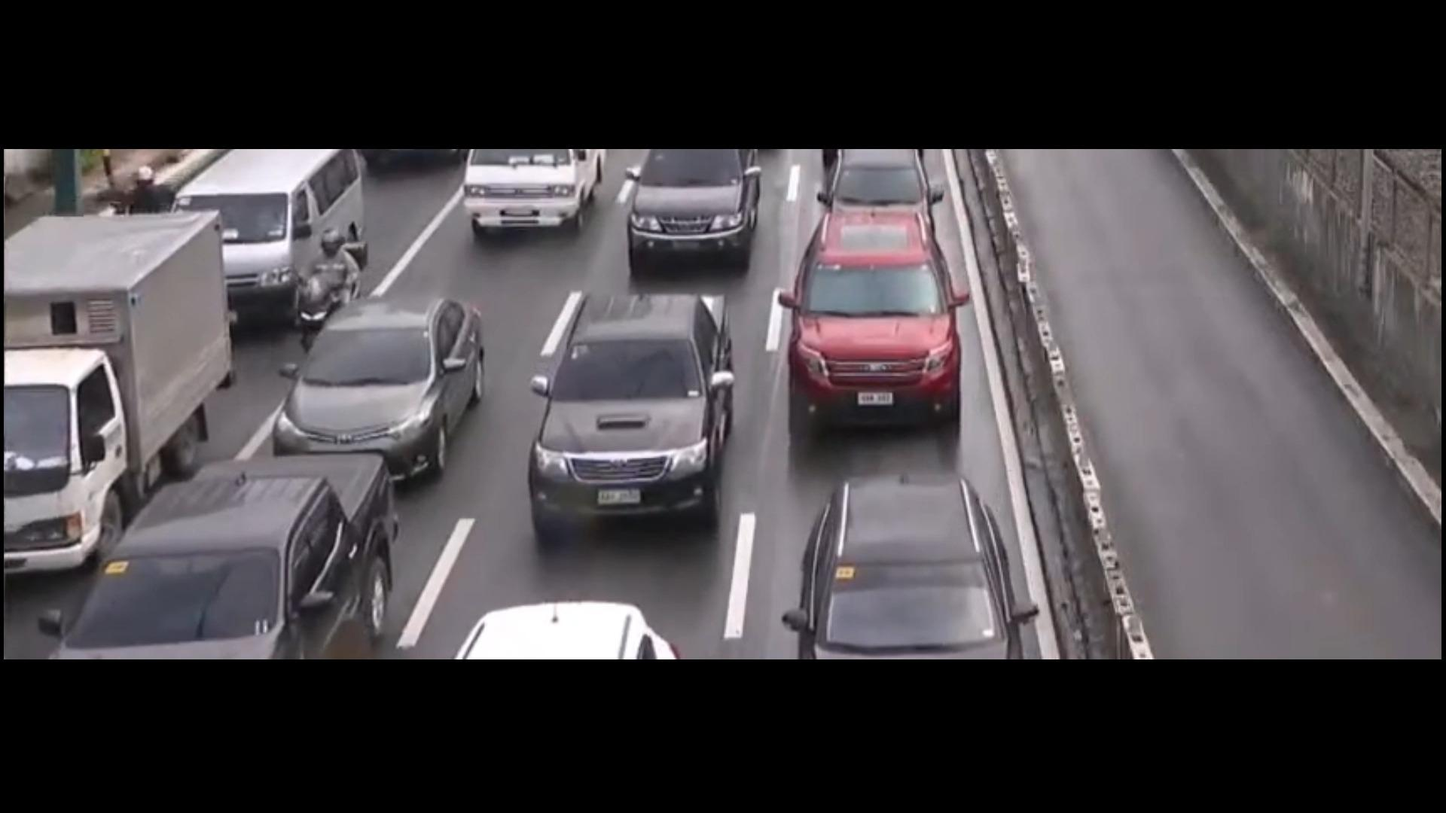Motorcycle: (282, 202, 392, 344)
Pickup: (479, 254, 763, 565), (44, 426, 415, 656)
SUV: (773, 181, 968, 434)
Sedan: (257, 275, 511, 479)
Truck: (0, 192, 239, 577)
Van: (184, 142, 390, 305)
